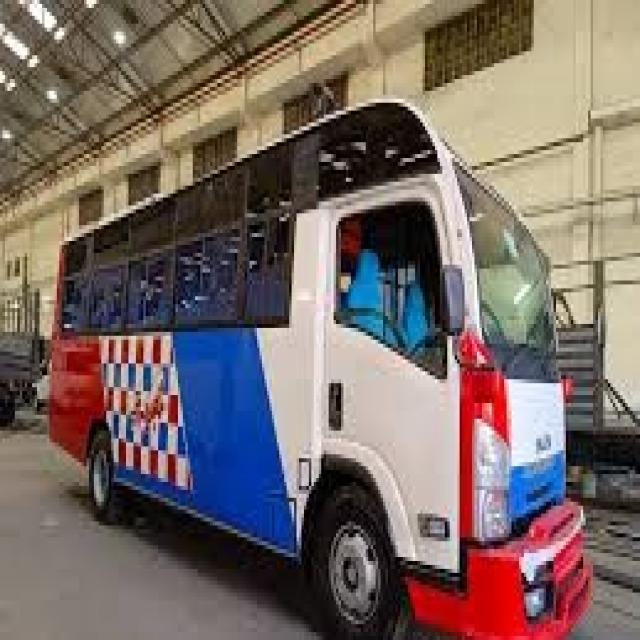bus: (22, 59, 608, 640)
